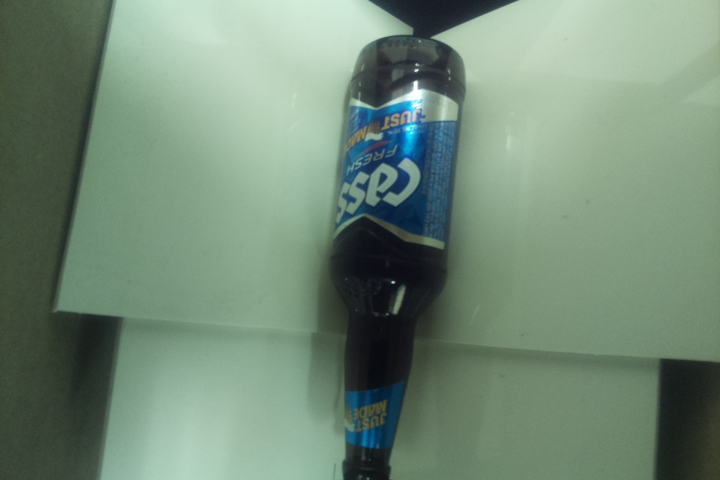makju: (322, 34, 469, 480)
